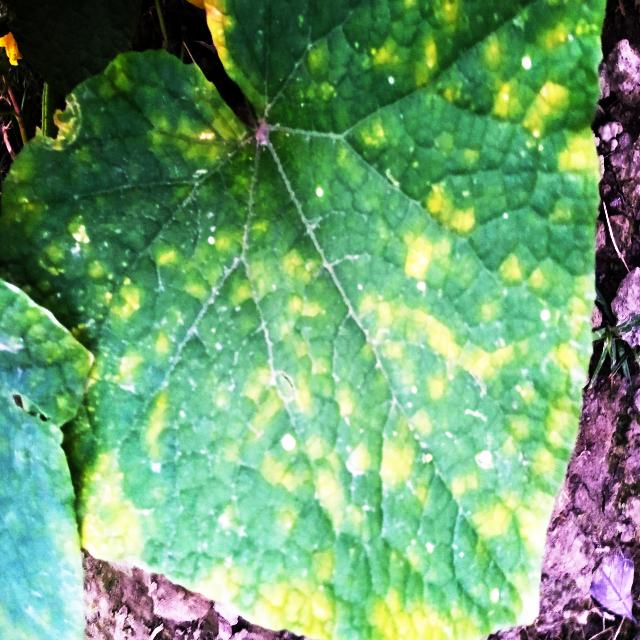Downy-Mildew: (1, 0, 611, 640)
